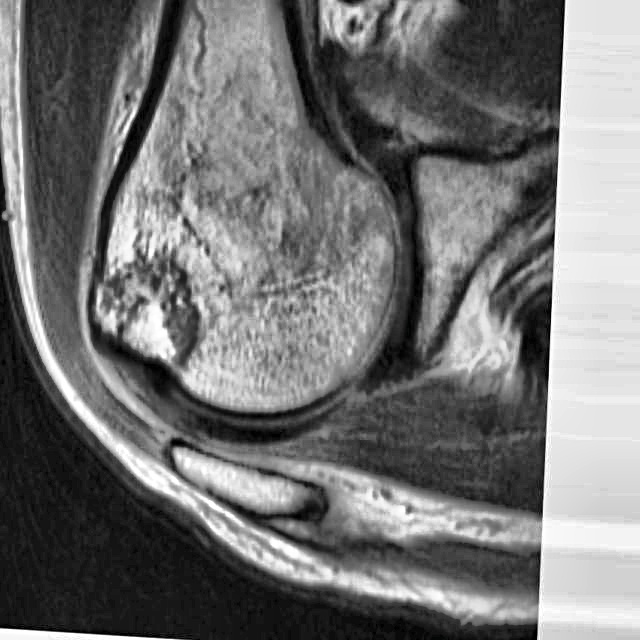Comminuted: (86, 265, 206, 383)
